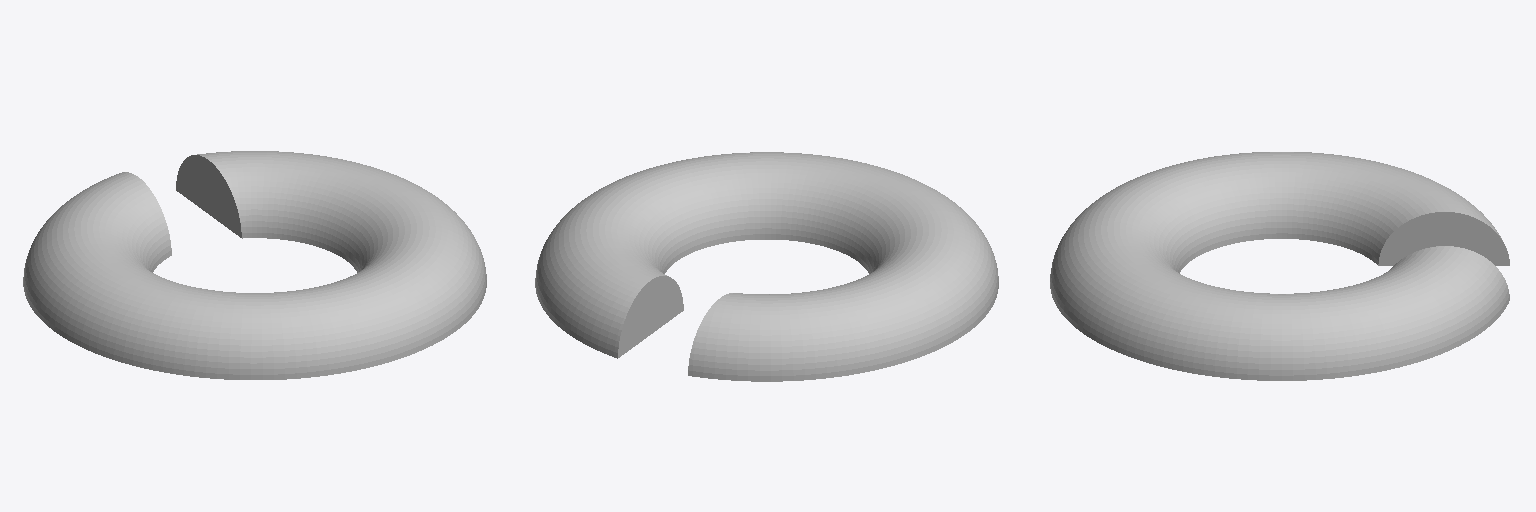
The model's file is half_ring.obj.
3 renders of one model, left to right at view 1: azimuth 30°, elevation 25°; view 2: azimuth 150°, elevation 25°; view 3: azimuth 270°, elevation 25°, orthographic.
Bounding box in the file's own units: 31 × 4 × 30.76.